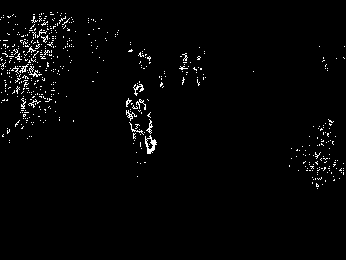person: (125, 81, 158, 157)
